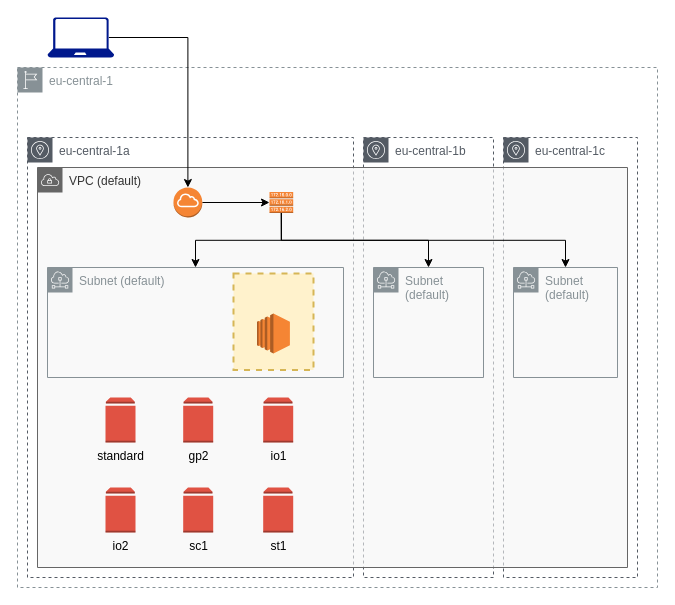
This 675x605 diagram has some shape labels left out. The box of each missing label's shape, as (x1, y1, x2, y2) in pixels:
Internet gateway: (172, 186, 202, 218)
Route table public: (268, 191, 293, 213)
Security Group: (232, 272, 314, 370)
